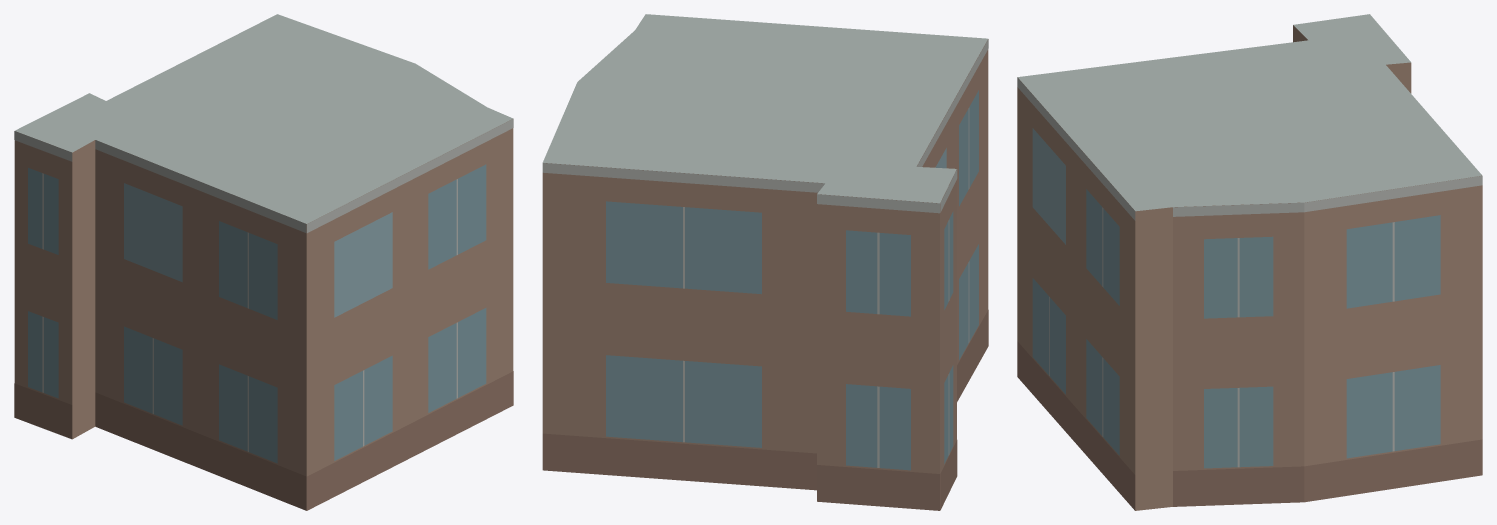
File: survey-upis-32935143.glb
3 views of the same model, side by side, from view 1: azimuth 30°, elevation 25°; view 2: azimuth 150°, elevation 25°; view 3: azimuth 270°, elevation 25° (orthographic). The views are drawn at different scales.
Parts seen in each view (by area): view 1: survey-upis-32935143.tmp; view 2: survey-upis-32935143.tmp; view 3: survey-upis-32935143.tmp.
Part boxes in pixels (x1,y1,x2,y2): survey-upis-32935143.tmp: (14,14,513,510); survey-upis-32935143.tmp: (542,14,988,510); survey-upis-32935143.tmp: (1017,14,1482,510).
Size of the model in its own units: 10.59 by 7.5 by 10.56.
